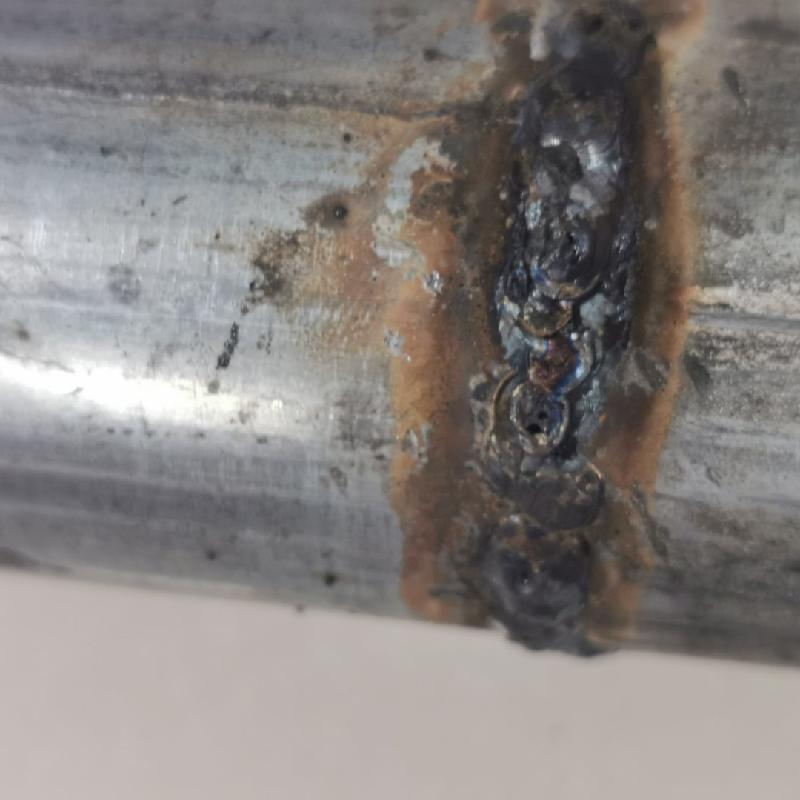Surface_pores: (556, 4, 650, 49), (513, 395, 568, 444), (507, 550, 543, 599)
wrong_size: (464, 457, 623, 655), (519, 4, 662, 197)
